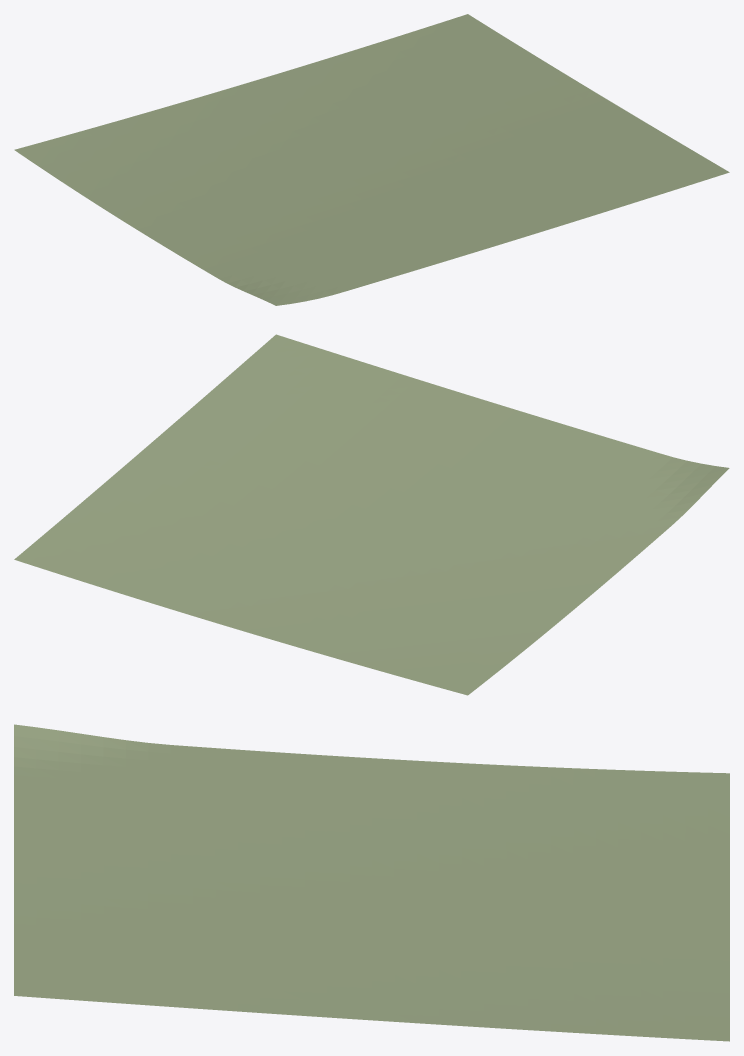
Rendered from desert-9-25.glb.
The picture shows the model from 3 angles, top to bottom: view 1: azimuth 30°, elevation 25°; view 2: azimuth 150°, elevation 25°; view 3: azimuth 270°, elevation 25°; orthographic projection. The views are drawn at different scales.
Parts seen in each view (by area): view 1: desert-9-25; view 2: desert-9-25; view 3: desert-9-25.
Boxes of the visible parts, x1,y1,x2,y2 form: desert-9-25: (14, 14, 729, 305); desert-9-25: (14, 334, 729, 695); desert-9-25: (14, 724, 729, 1041).
Bounding box in the file's own units: 512 × 63.08 × 512.
